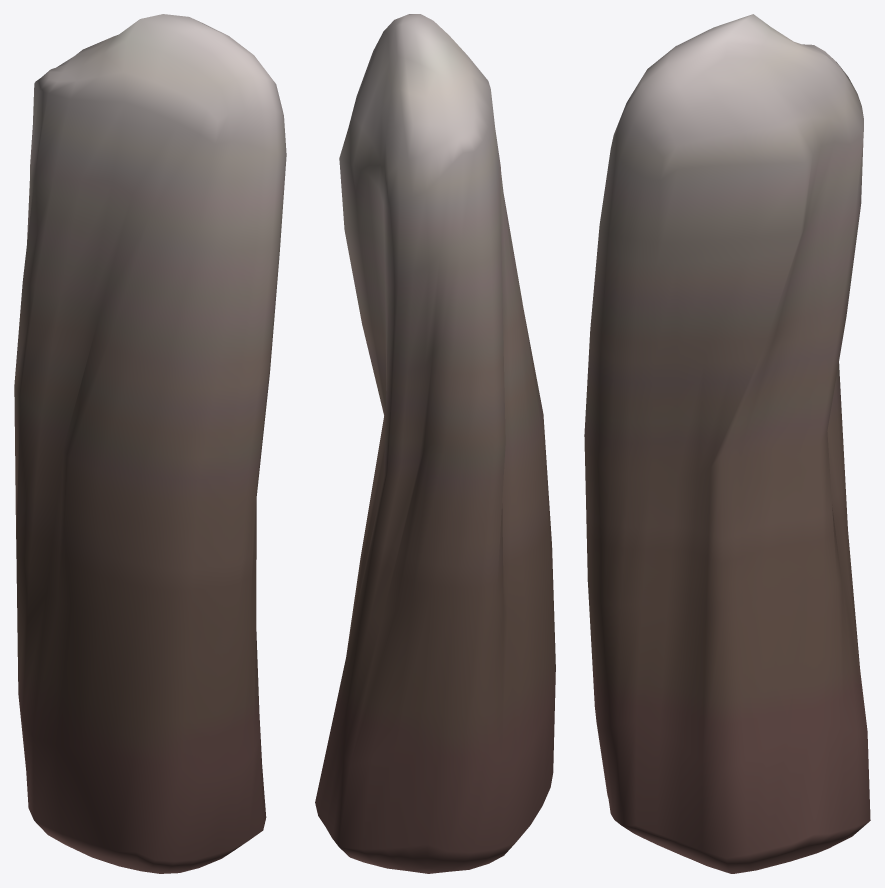
The model's file is M_Rock_Long_01.fbx.
3 renders of one model, left to right at view 1: azimuth 30°, elevation 25°; view 2: azimuth 150°, elevation 25°; view 3: azimuth 270°, elevation 25°, orthographic. The views are drawn at different scales.
Visible parts, largest first — view 1: M_Rock_Long_01; view 2: M_Rock_Long_01; view 3: M_Rock_Long_01.
Boxes of the visible parts, x1=… form: M_Rock_Long_01: x1=14, y1=14, x2=286, y2=873; M_Rock_Long_01: x1=315, y1=14, x2=555, y2=873; M_Rock_Long_01: x1=584, y1=14, x2=870, y2=873.
Bounding box in the file's own units: 764 × 2922 × 901.
1 material, 1 textured.
